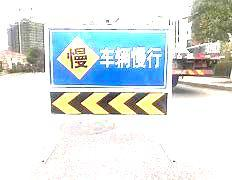sign: (45, 28, 168, 117)
